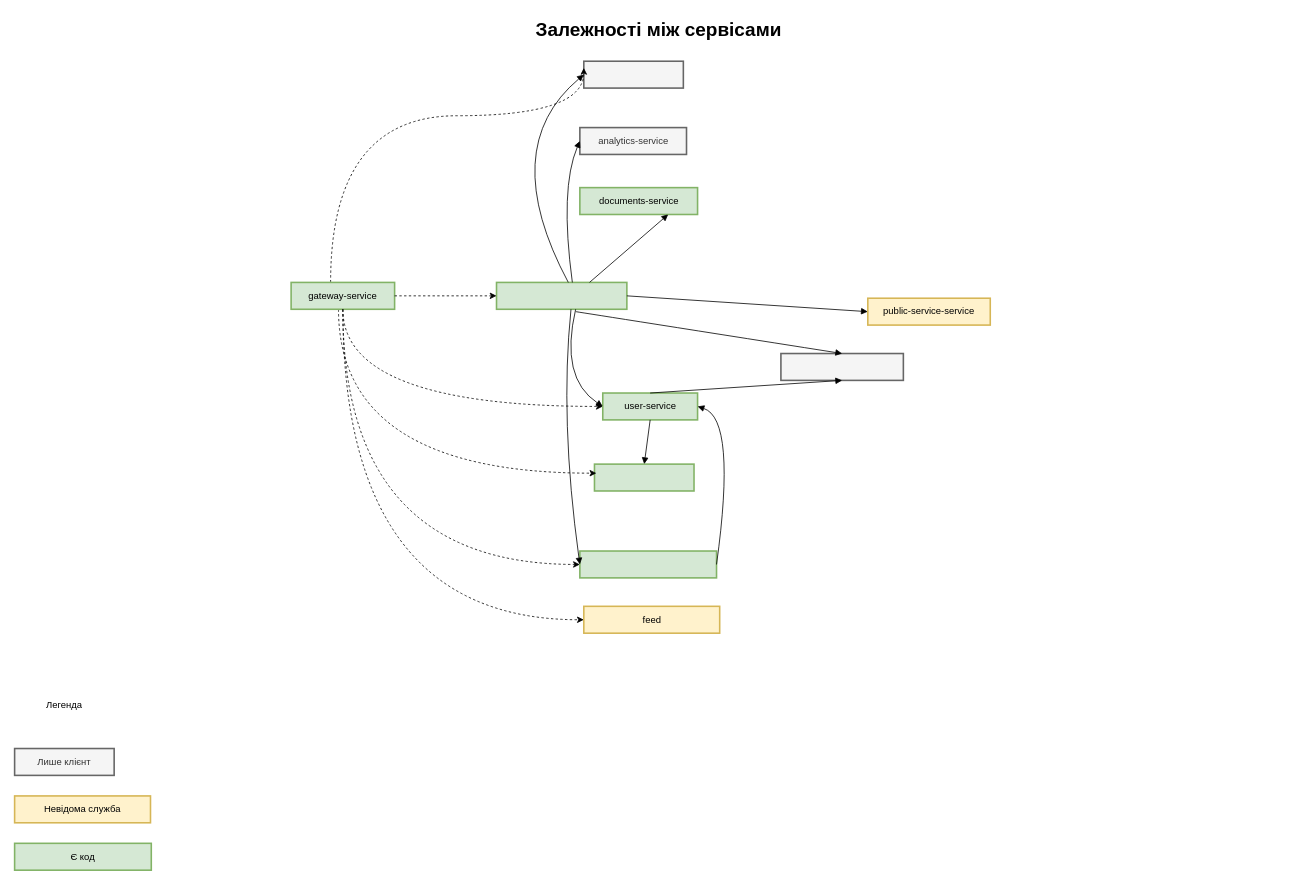
The diagram is 1300 pixels wide and 884 high, and some of its shapes have lost their labels. The shapes that lost their labels are listed below. From the top down, each one's centre as x and y in pixels, then its label:
At (x=633, y=74): "address-service".
At (x=561, y=295): "criminal-cert-service".
At (x=842, y=366): "notification-service".
At (x=643, y=477): "auth-service".
At (x=648, y=564): "public-service-catalog".
